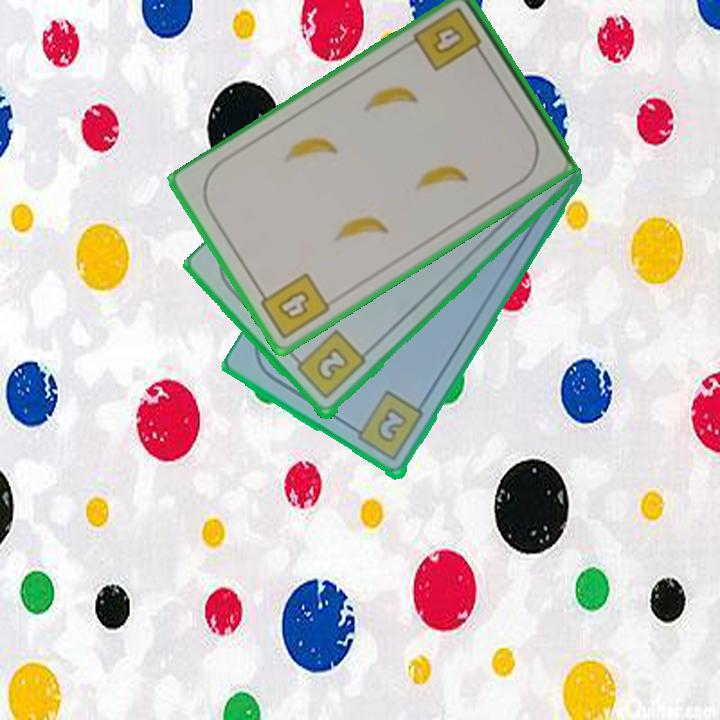2b: (347, 388, 426, 465), (289, 327, 369, 403)
4b: (253, 269, 333, 343), (410, 4, 489, 75)
